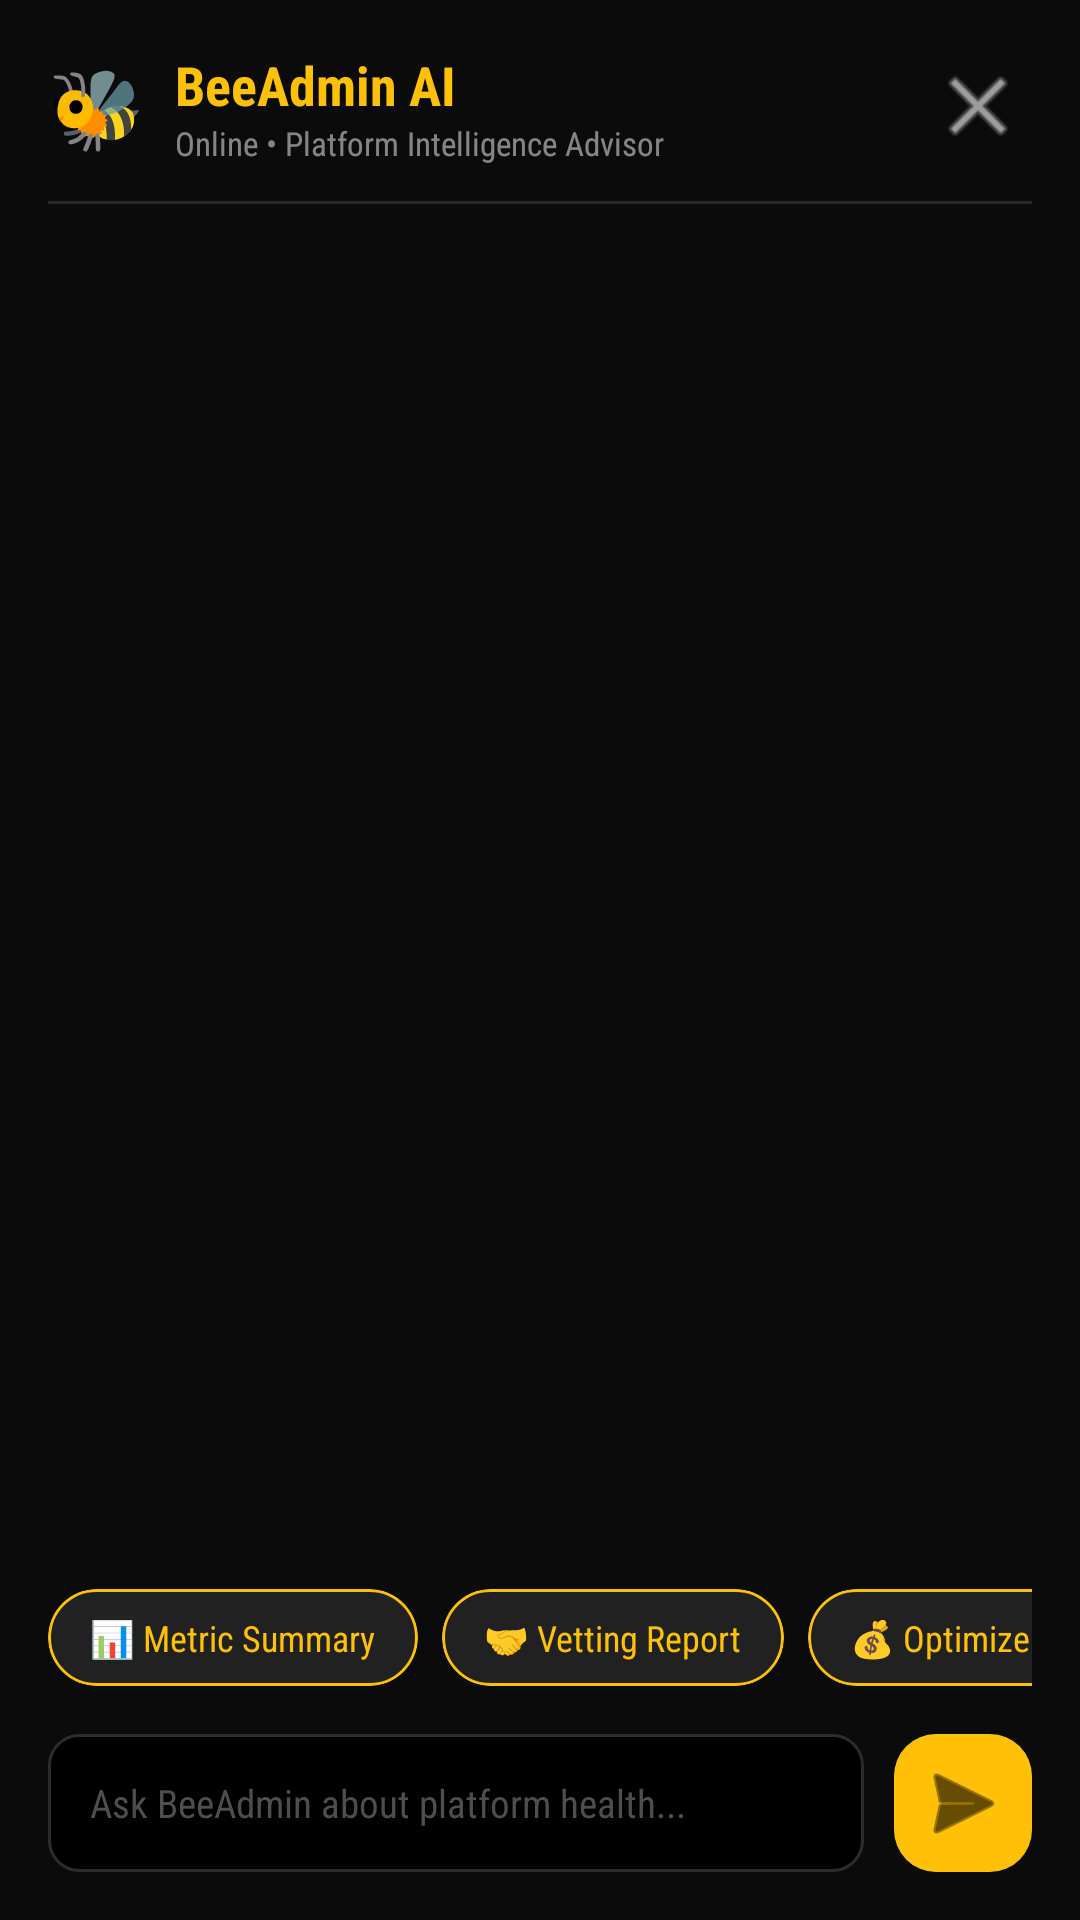

Named icons in this screenshot (1080*1920) and their bounding boxes, (x1, y1, x2, y2):
Close: (949, 77, 1007, 135)
Send: (894, 1734, 1032, 1872)
